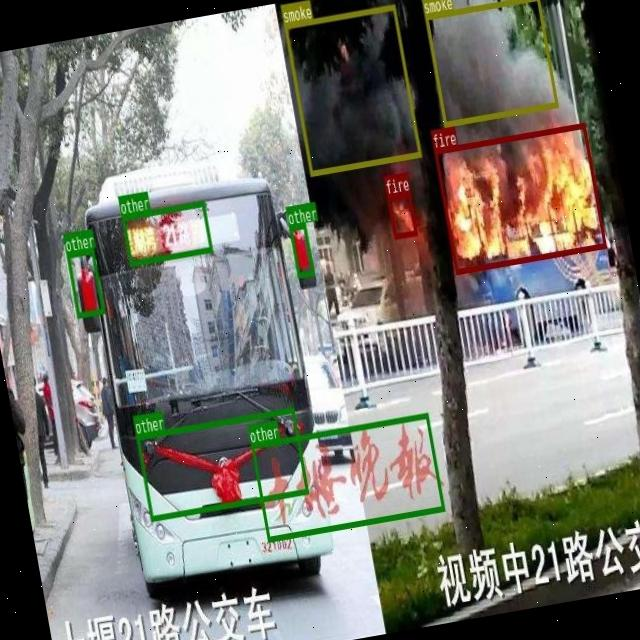fire: (433, 121, 606, 274), (386, 190, 416, 238)
smoke: (283, 2, 421, 174), (423, 0, 557, 125)
